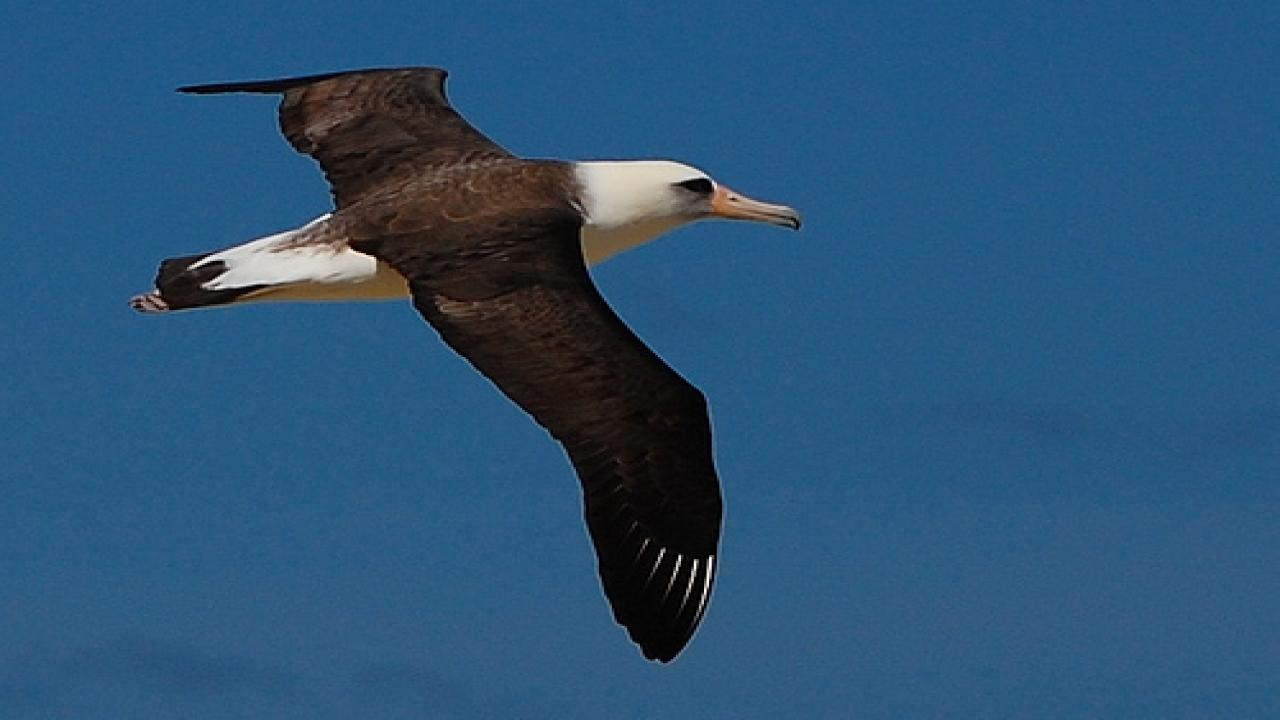Bird: (115, 59, 812, 674)
